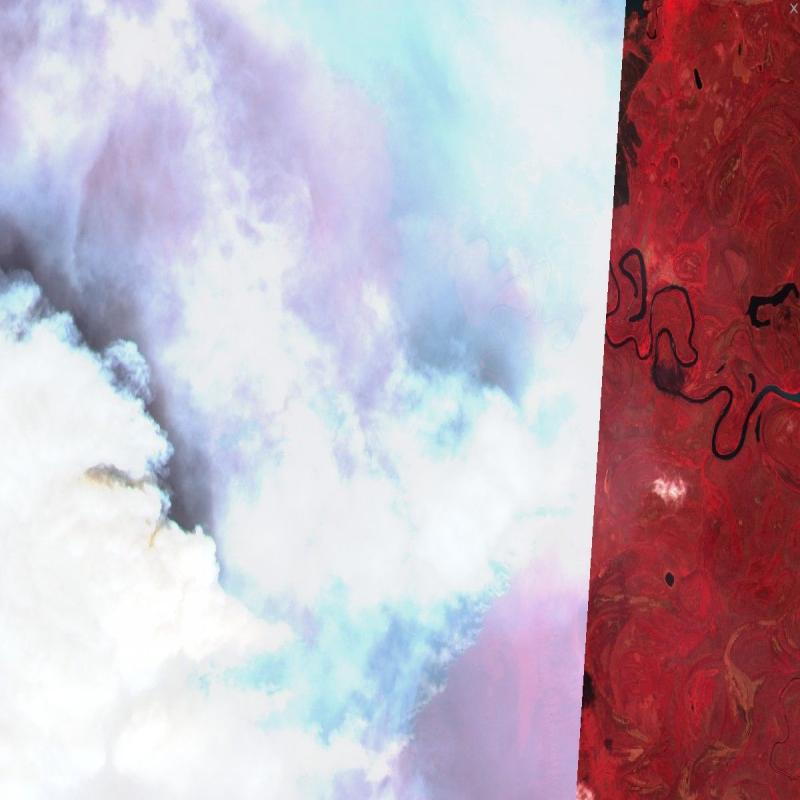fire: (166, 326, 605, 772)
